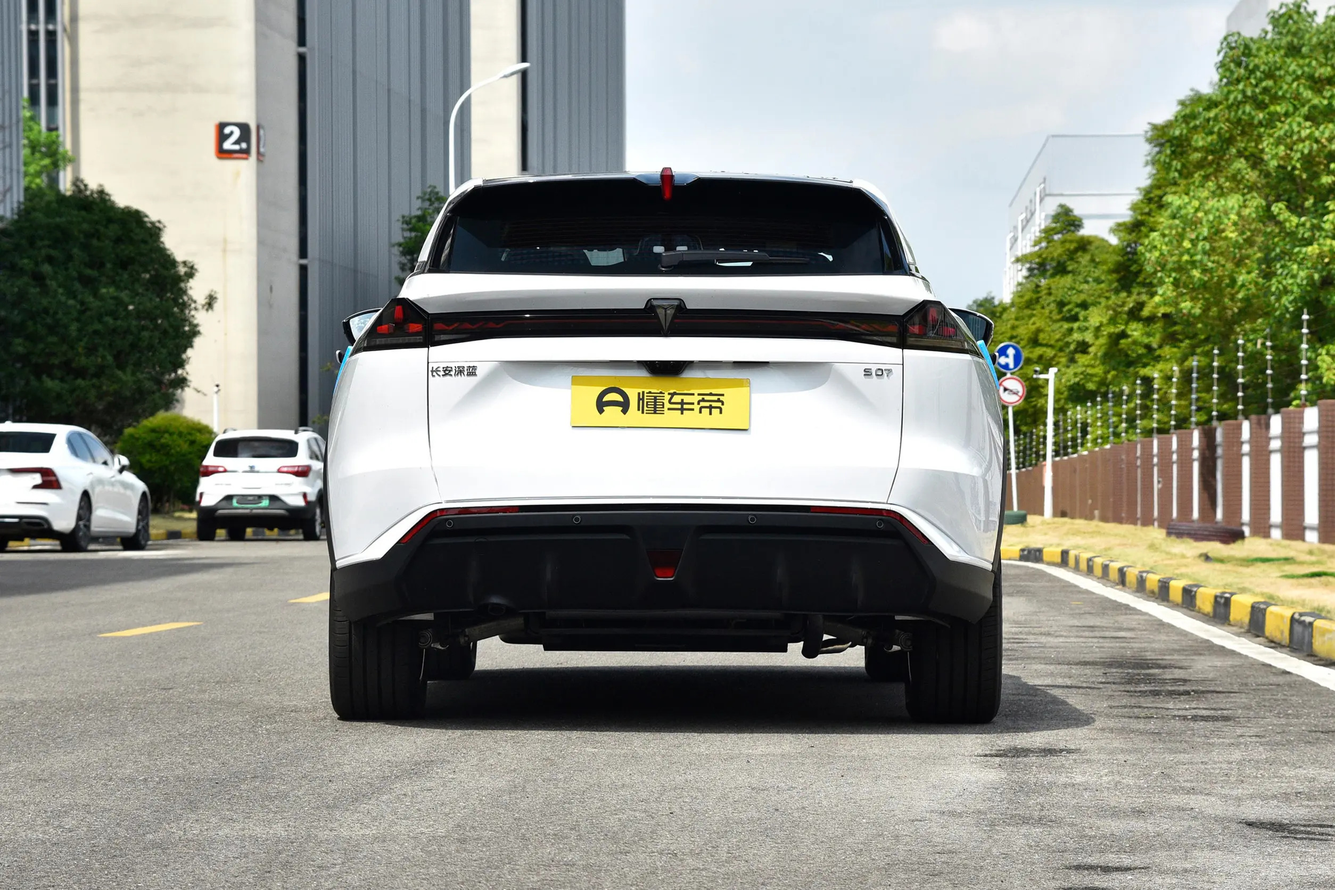Deepal: (654, 303, 677, 330)
